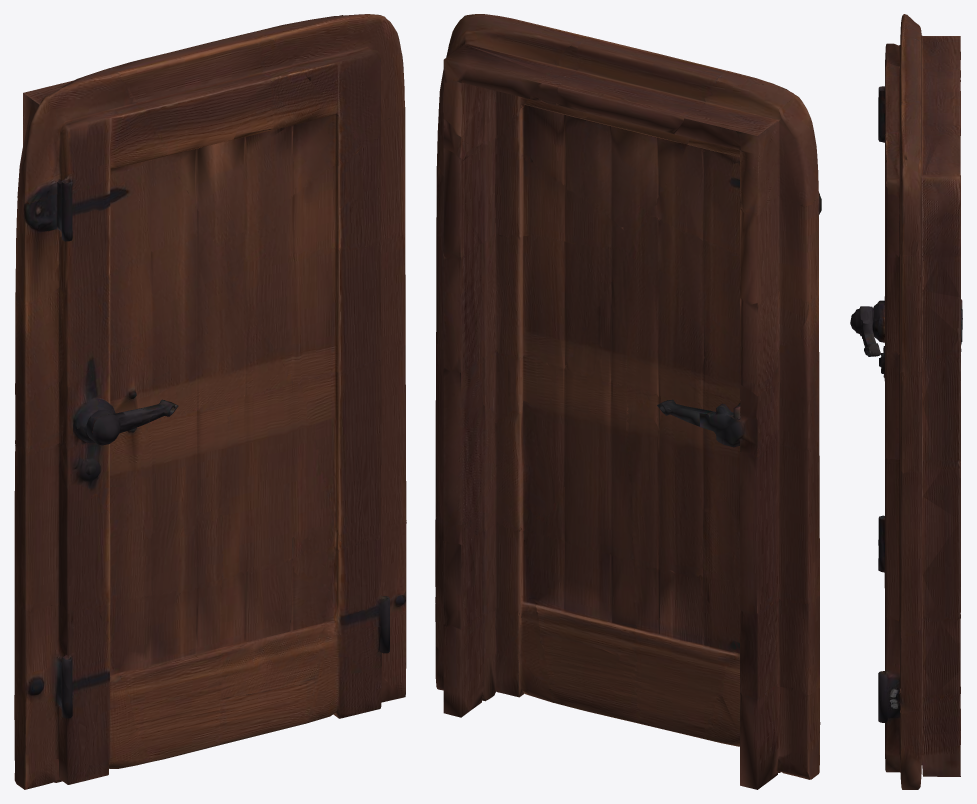
File: colonial-door.glb
3 renders of one model, left to right at view 1: azimuth 30°, elevation 25°; view 2: azimuth 150°, elevation 25°; view 3: azimuth 270°, elevation 25°, orthographic. The views are drawn at different scales.
Parts seen in each view (by area): view 1: Mesh_0; view 2: Mesh_0; view 3: Mesh_0.
Part boxes in pixels (left/top/right/bottom): Mesh_0: left=14, top=14, right=406, bottom=789; Mesh_0: left=435, top=14, right=821, bottom=789; Mesh_0: left=850, top=14, right=962, bottom=789.
Size of the model in its own units: 1.09 by 1.9 by 0.3102.
Materials: 1 (1 with a texture image).
